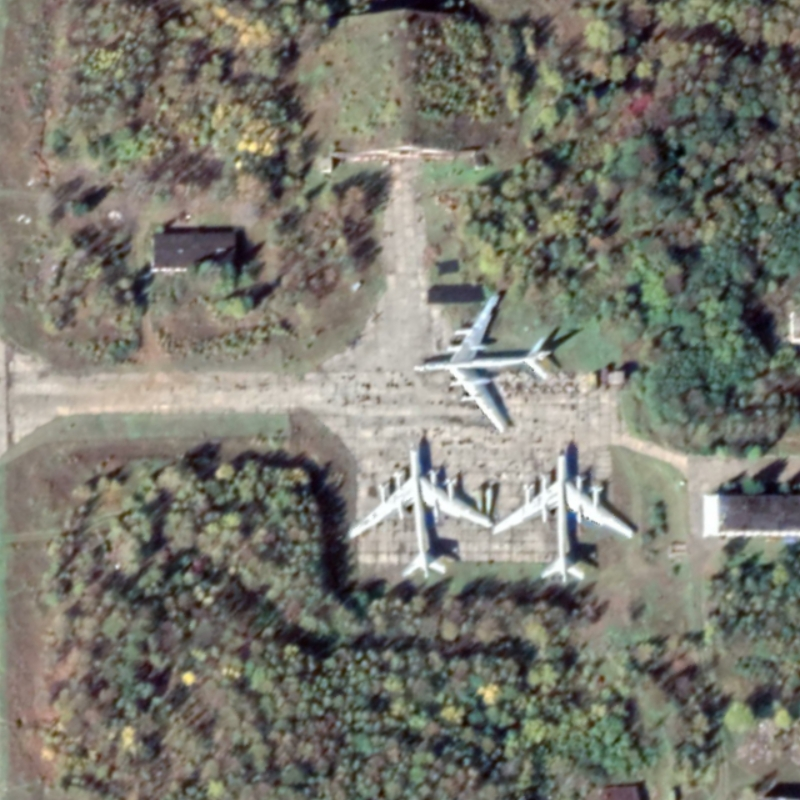A17: (414, 287, 560, 439), (344, 439, 498, 583), (487, 444, 637, 587)
